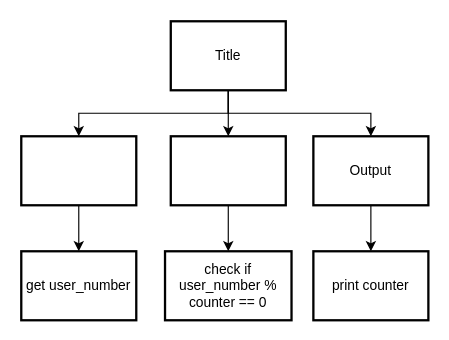
Some shapes in this 449 by 340 pixel diagram are drawn without their labels. The box of each missing label's shape, as (x1, y1, x2, y2) in pixels:
Input: (20, 135, 137, 206)
Process: (169, 135, 286, 206)
